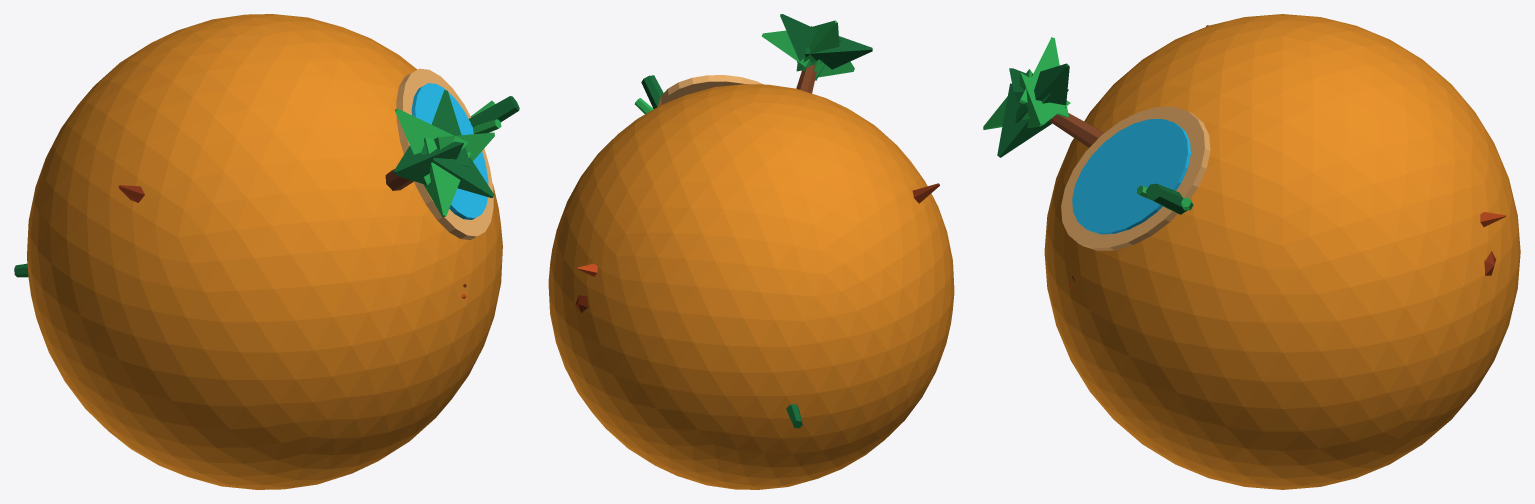
File: Desert_01.fbx
3 renders of one model, left to right at view 1: azimuth 30°, elevation 25°; view 2: azimuth 150°, elevation 25°; view 3: azimuth 270°, elevation 25°, orthographic. The views are drawn at different scales.
Visible parts, largest first — view 1: Desert_01; view 2: Desert_01; view 3: Desert_01.
Boxes of the visible parts, bbox=[...] form: Desert_01: bbox=[14, 14, 519, 489]; Desert_01: bbox=[548, 14, 954, 489]; Desert_01: bbox=[983, 14, 1520, 489].
Bounding box in the file's own units: 6 × 6.11 × 6.77.
1 material, 1 textured.
